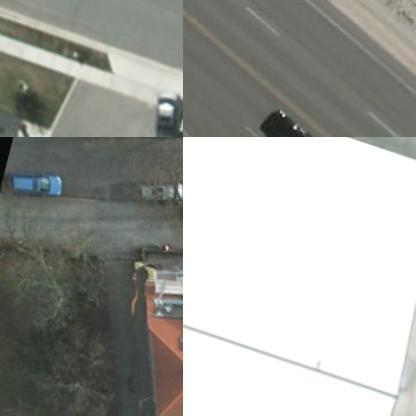car: (253, 95, 330, 136), (6, 159, 68, 209), (132, 168, 182, 214), (145, 78, 182, 136), (64, 137, 123, 148)
